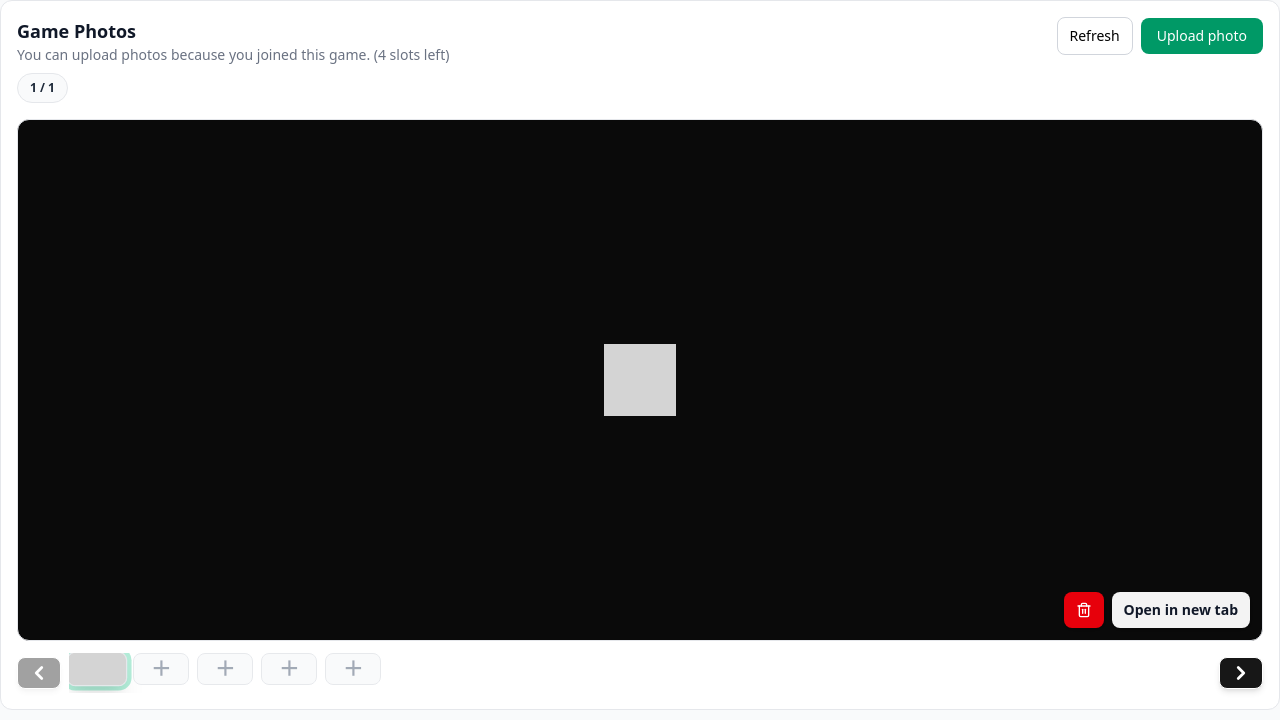
Test case: PhotosPanel Component › Delete photo flow › closes delete dialog when backdrop is clicked without deleting
Step 1. Click the button titled "Delete this photo" → (1084, 610), box [1064,592,1104,628]
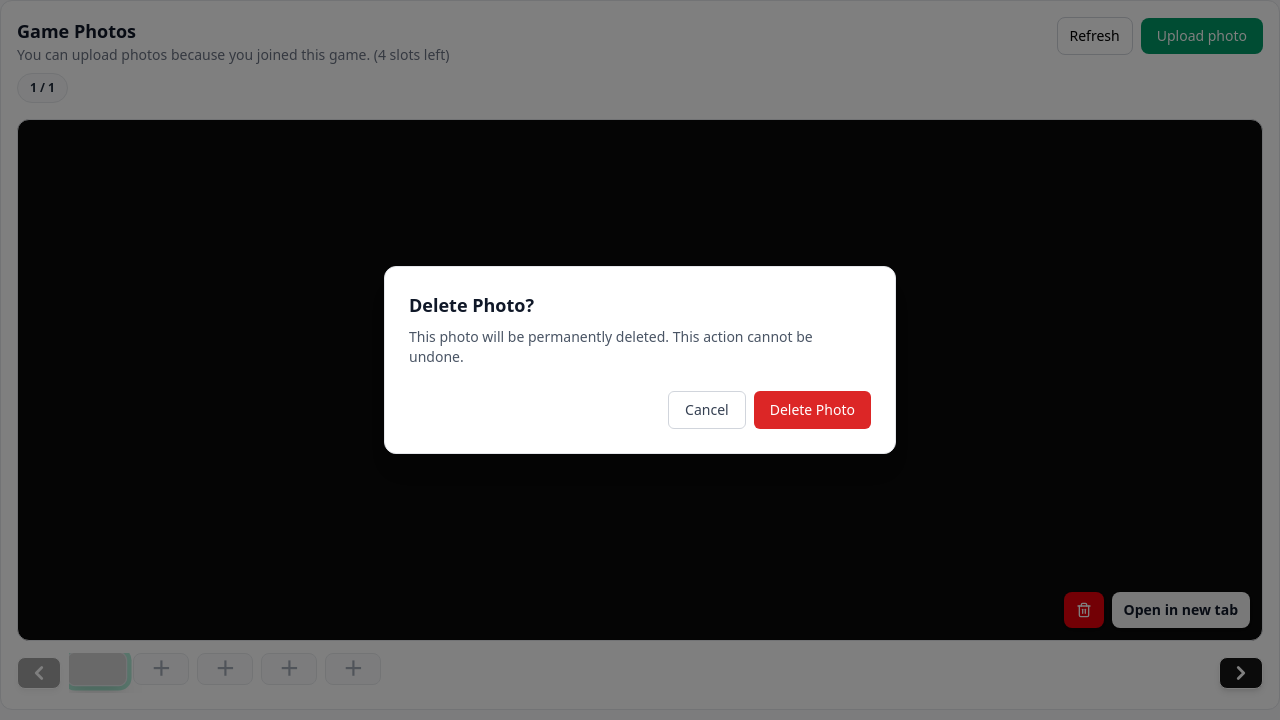
Expected: the dialog is shown, [384,266,896,454]
Step 2. Click the button named "Close delete photo dialog" → (77, 360), box [0,0,1279,719]
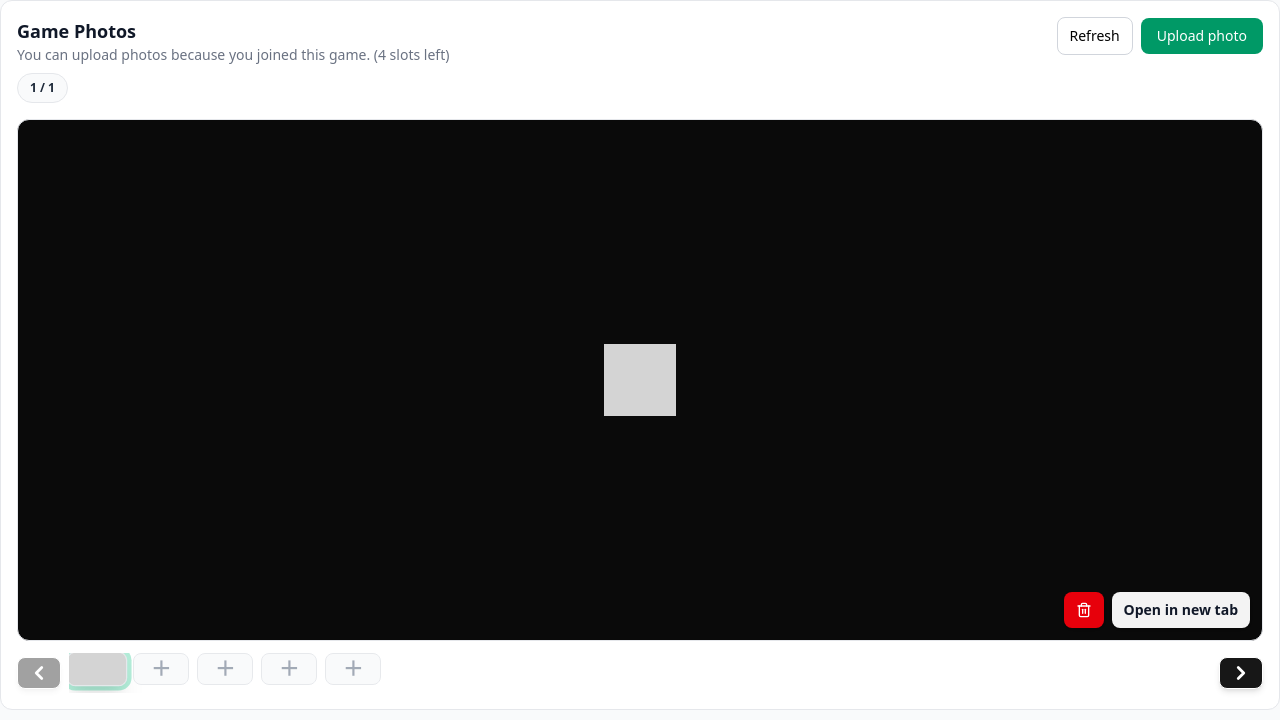
Expected: the dialog is gone
